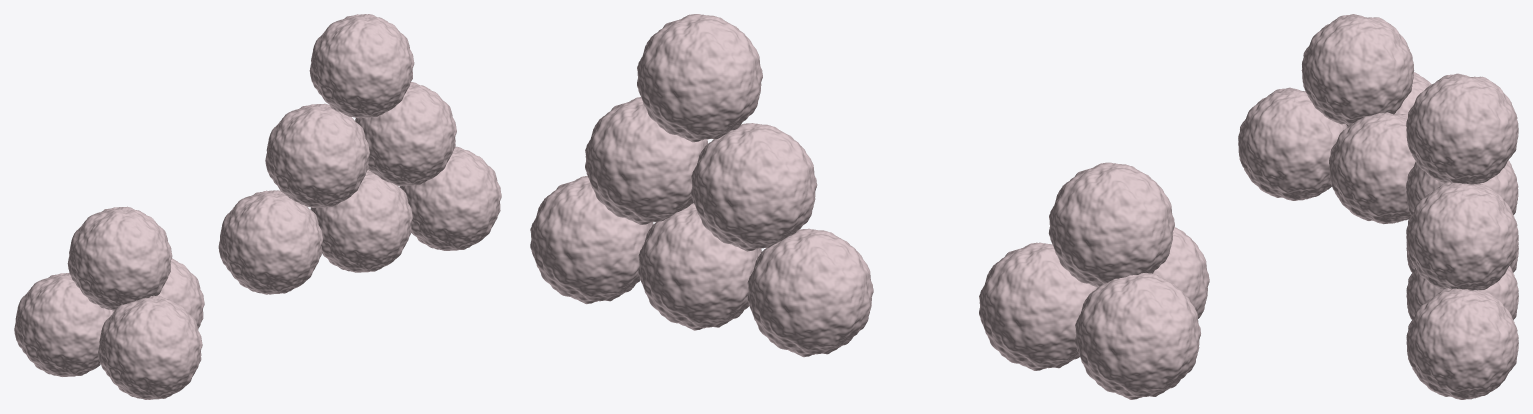
The model's file is Charlton_SnowballV2.glb.
3 views of the same model, side by side, from view 1: azimuth 30°, elevation 25°; view 2: azimuth 150°, elevation 25°; view 3: azimuth 270°, elevation 25° (orthographic). The views are drawn at different scales.
Visible parts, largest first — view 1: Sphere.011, Sphere.006, Sphere.003, Sphere.009, Sphere.005, Sphere.004, Sphere.007, Sphere.008, Sphere.001, Sphere.002; view 2: Sphere.011, Sphere.003, Sphere.004, Sphere.009, Sphere.005, Sphere.002, Sphere.007, Sphere.008, Sphere.001, Sphere.006; view 3: Sphere.007, Sphere.011, Sphere.008, Sphere.005, Sphere.006, Sphere.002, Sphere.009, Sphere.001, Sphere.004.
Boxes of the visible parts, bbox=[...] form: Sphere.011: bbox=[309, 14, 414, 118]; Sphere.006: bbox=[98, 295, 202, 399]; Sphere.003: bbox=[218, 190, 322, 294]; Sphere.009: bbox=[265, 103, 369, 207]; Sphere.005: bbox=[67, 206, 172, 310]; Sphere.004: bbox=[14, 273, 114, 376]; Sphere.007: bbox=[399, 146, 501, 250]; Sphere.008: bbox=[355, 82, 456, 186]; Sphere.001: bbox=[310, 170, 412, 272]; Sphere.002: bbox=[158, 258, 204, 328]; Sphere.011: bbox=[637, 14, 762, 142]; Sphere.003: bbox=[747, 228, 873, 357]; Sphere.004: bbox=[1075, 273, 1200, 399]; Sphere.009: bbox=[691, 123, 817, 251]; Sphere.005: bbox=[1048, 162, 1174, 287]; Sphere.002: bbox=[979, 242, 1097, 370]; Sphere.007: bbox=[530, 176, 653, 304]; Sphere.008: bbox=[585, 97, 707, 224]; Sphere.001: bbox=[638, 203, 761, 330]; Sphere.006: bbox=[1153, 227, 1209, 318]; Sphere.007: bbox=[1406, 288, 1518, 399]; Sphere.011: bbox=[1406, 73, 1518, 184]; Sphere.008: bbox=[1406, 182, 1518, 290]; Sphere.005: bbox=[1301, 14, 1414, 124]; Sphere.006: bbox=[1238, 87, 1347, 200]; Sphere.002: bbox=[1329, 112, 1415, 224]; Sphere.009: bbox=[1406, 160, 1518, 214]; Sphere.001: bbox=[1406, 266, 1518, 319]; Sphere.004: bbox=[1346, 72, 1430, 126].
Bounding box in the file's own units: 10.29 × 4.88 × 4.58.
